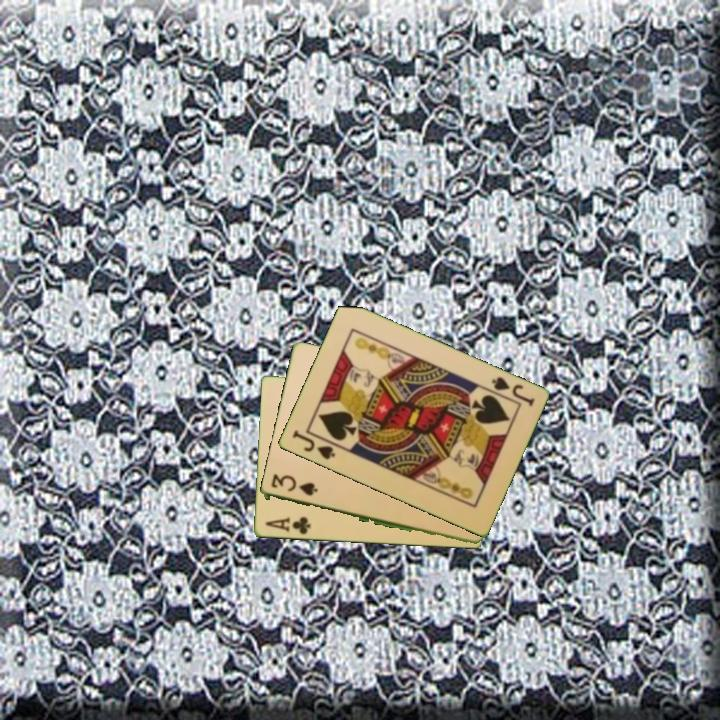3s: (267, 474, 321, 499)
Ac: (261, 514, 313, 537)
Js: (488, 373, 537, 410), (288, 426, 338, 462)
